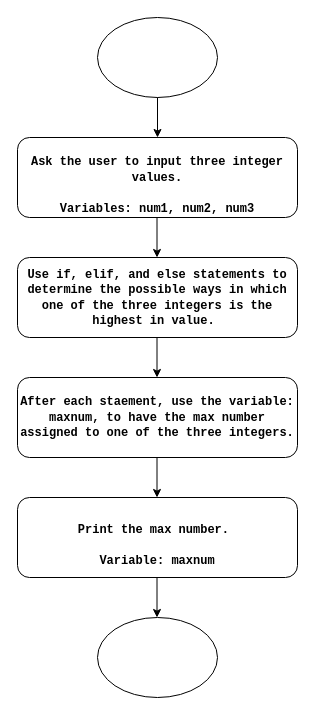
Image size: 315x715. Some labels were removed from this diagram. The centre of each missing label's shape, as x and y in pixels:
"End" belongs at pixel 157 657.
"Start" belongs at pixel 157 57.
